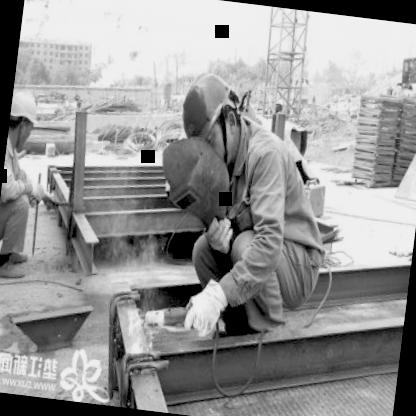helmet: (170, 63, 250, 160), (6, 82, 42, 152)
